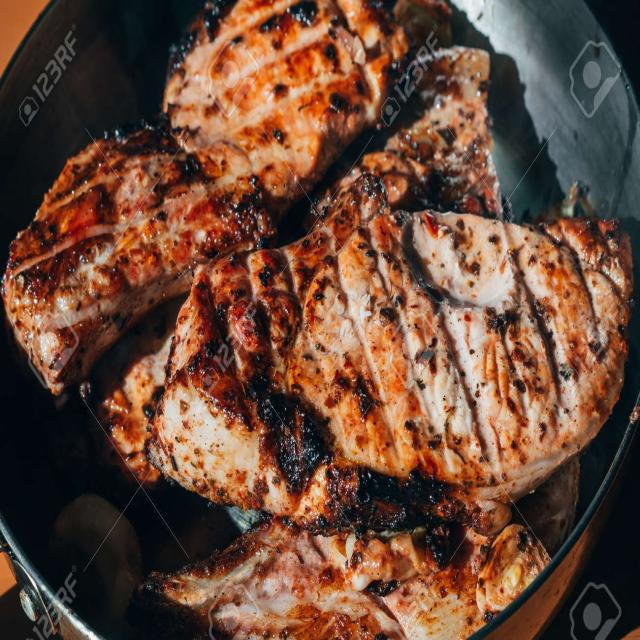carne de cerdo: (13, 8, 597, 624)
